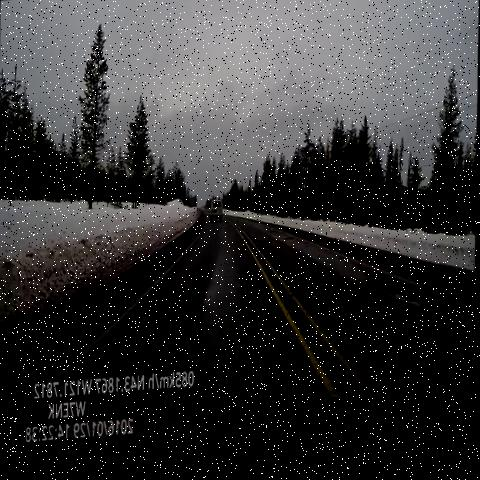pothole: (365, 257, 441, 336), (297, 286, 326, 321), (251, 233, 274, 264), (282, 236, 299, 257)
